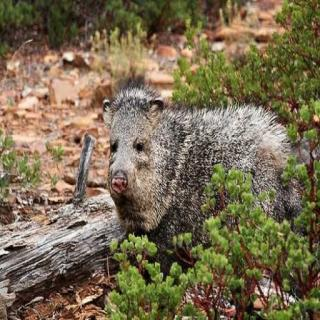Pig: (94, 83, 301, 266)
